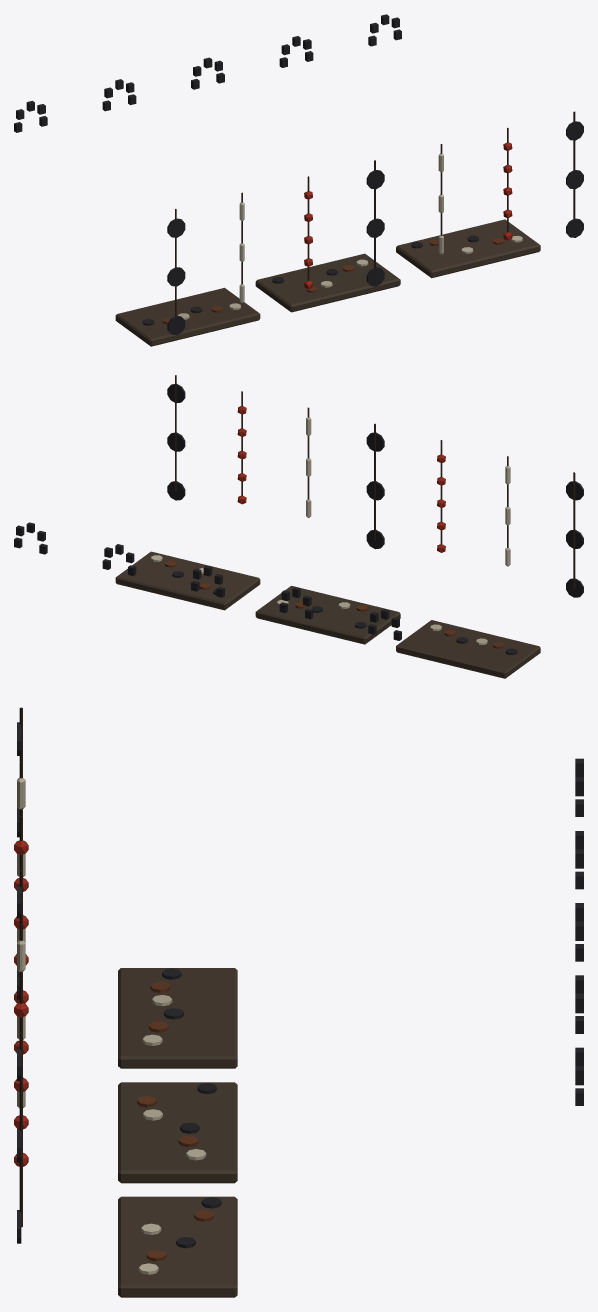
The model's file is goods_charms.glb.
3 views of the same model, one above another, from view 1: azimuth 30°, elevation 25°; view 2: azimuth 150°, elevation 25°; view 3: azimuth 270°, elevation 25° (orthographic). The views are drawn at different scales.
Visible parts, largest first — view 1: goods_charms; view 2: goods_charms; view 3: goods_charms.
Boxes of the visible parts, box(x1,y1,x2,y2) form: goods_charms: box(14, 14, 583, 346); goods_charms: box(14, 375, 583, 678); goods_charms: box(14, 707, 583, 1297).
Bounding box in the file's own units: 2.81 × 1.04 × 2.
